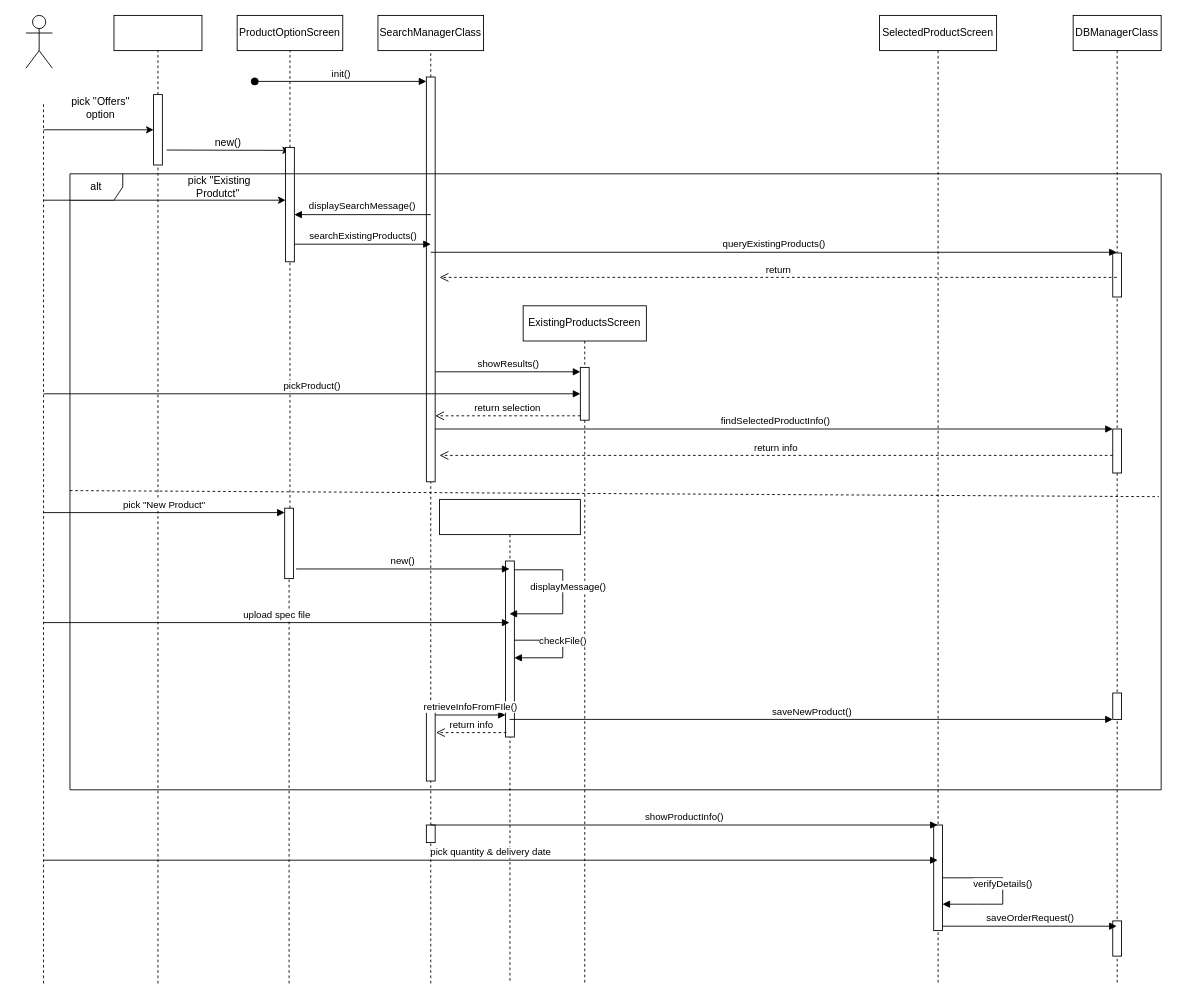
Some shapes in this 1177 by 1000 pixel diagram are drawn without their labels. Each missing label, with the centre of its shape:
"HomeMenu" goes at (x=157, y=33).
"NewProductSpecScreen" goes at (x=509, y=741).
"ΠΕΛΑΤΗΣ" goes at (x=38, y=41).
